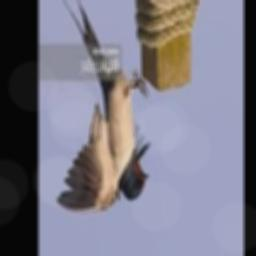Swallow: (43, 0, 151, 213)
